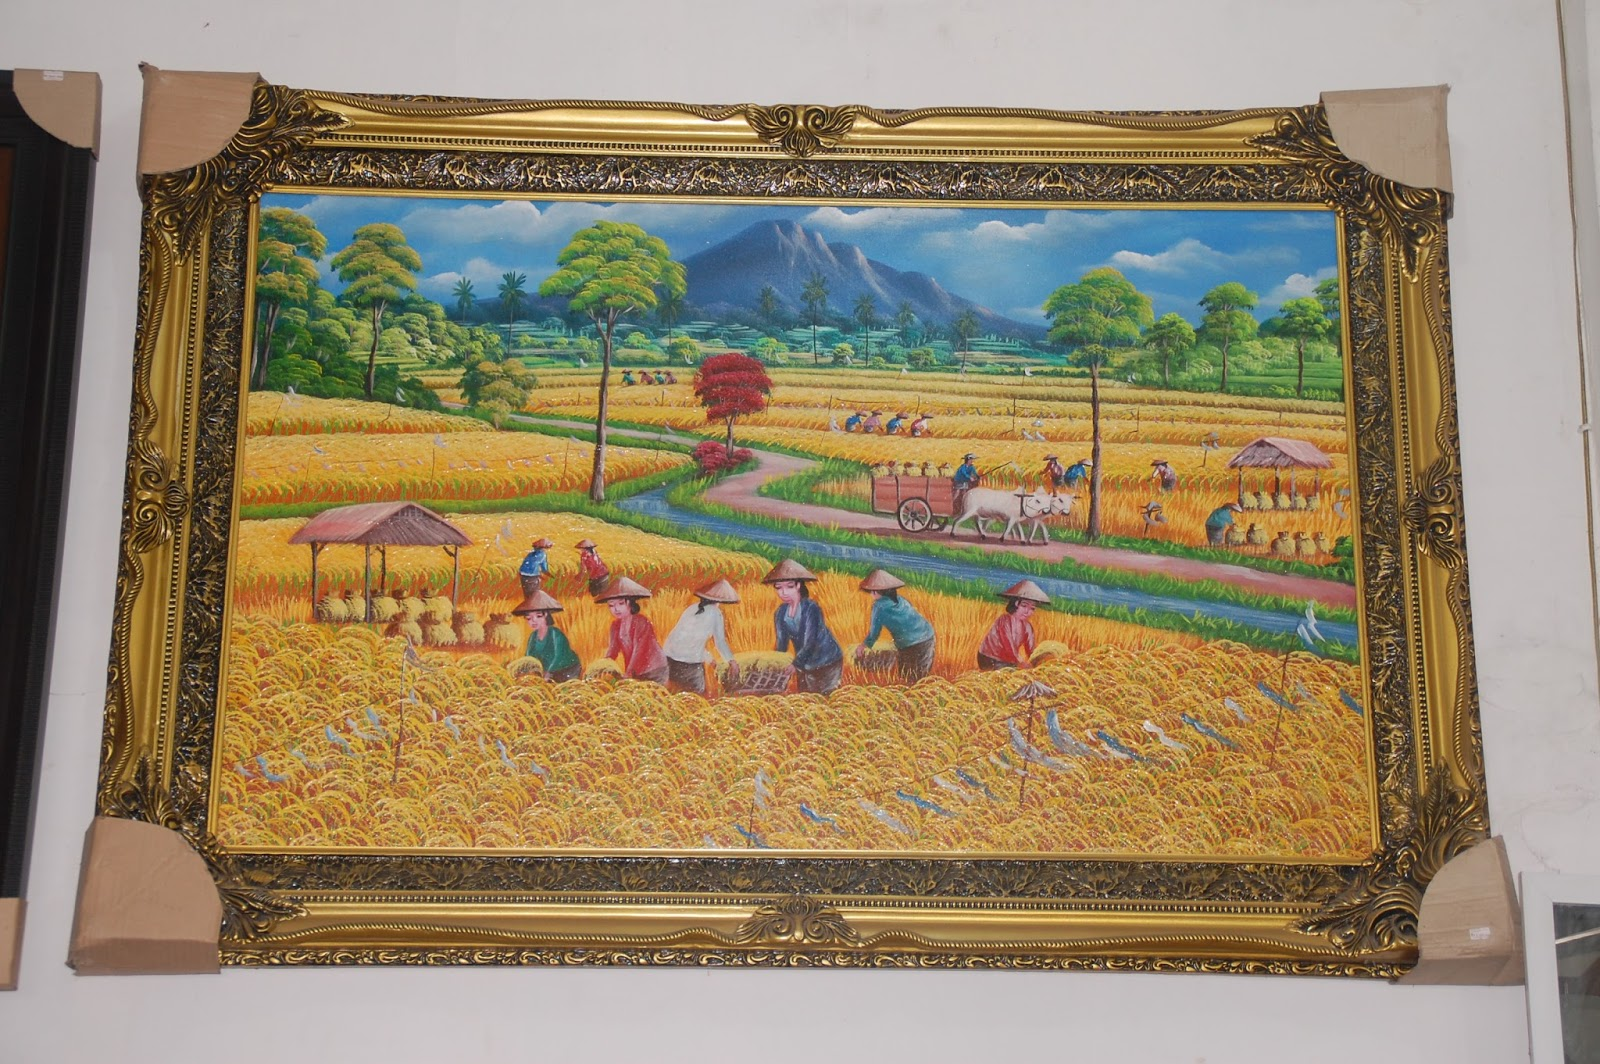lukisan: (112, 71, 1524, 1011)
